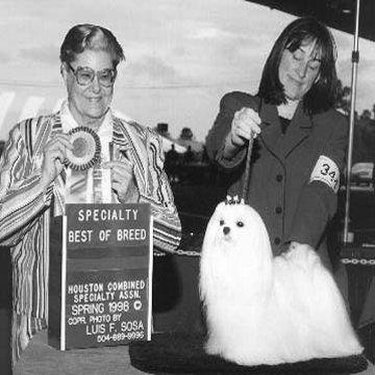dog: (186, 194, 369, 365)
